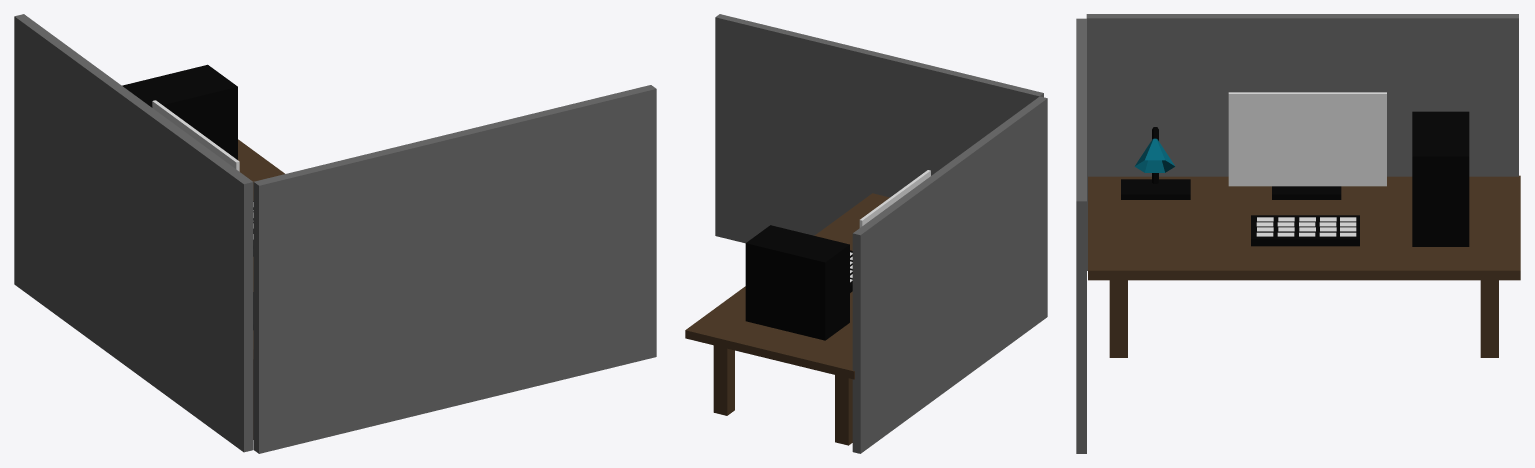
Rendered from WorkingZone.fbx.
The picture shows the model from 3 angles, left to right: view 1: azimuth 30°, elevation 25°; view 2: azimuth 150°, elevation 25°; view 3: azimuth 270°, elevation 25°; orthographic projection. The views are drawn at different scales.
Visible parts, largest first — view 1: Divisor izq, divisior enfrente, PC, tabla, Pantalla pc; view 2: Divisor izq, divisior enfrente, PC, tabla, pata abajo der, pata arriba der, Pantalla pc; view 3: divisior enfrente, tabla, Pantalla pc, PC, Divisor izq, Teclado, pata abajo der, pata abajo iz, base lampara, Base Pantalla Pc, pantalla lampara.
Part boxes in pixels (box(x1,y1,x2,y2)): Divisor izq: box(253, 85, 656, 453); divisior enfrente: box(14, 14, 253, 452); PC: box(122, 64, 237, 159); tabla: box(238, 139, 284, 358); Pantalla pc: box(152, 100, 239, 171); Divisor izq: box(715, 14, 1043, 243); divisior enfrente: box(852, 96, 1047, 453); PC: box(745, 225, 849, 340); tabla: box(685, 193, 889, 379); pata abajo der: box(713, 345, 734, 415); pata arriba der: box(835, 375, 852, 445); Pantalla pc: box(859, 170, 930, 227); divisior enfrente: box(1086, 14, 1518, 270); tabla: box(1088, 175, 1520, 280); Pantalla pc: box(1228, 92, 1386, 186); PC: box(1412, 111, 1469, 246); Divisor izq: box(1076, 18, 1086, 453); Teclado: box(1251, 215, 1359, 246); pata abajo der: box(1480, 280, 1498, 357); pata abajo iz: box(1109, 280, 1127, 357); base lampara: box(1121, 179, 1190, 199); Base Pantalla Pc: box(1272, 186, 1341, 199); pantalla lampara: box(1134, 138, 1175, 172).
Bounding box in the file's own units: 15.57 × 9.93 × 15.6.
28 materials, 1 textured.
